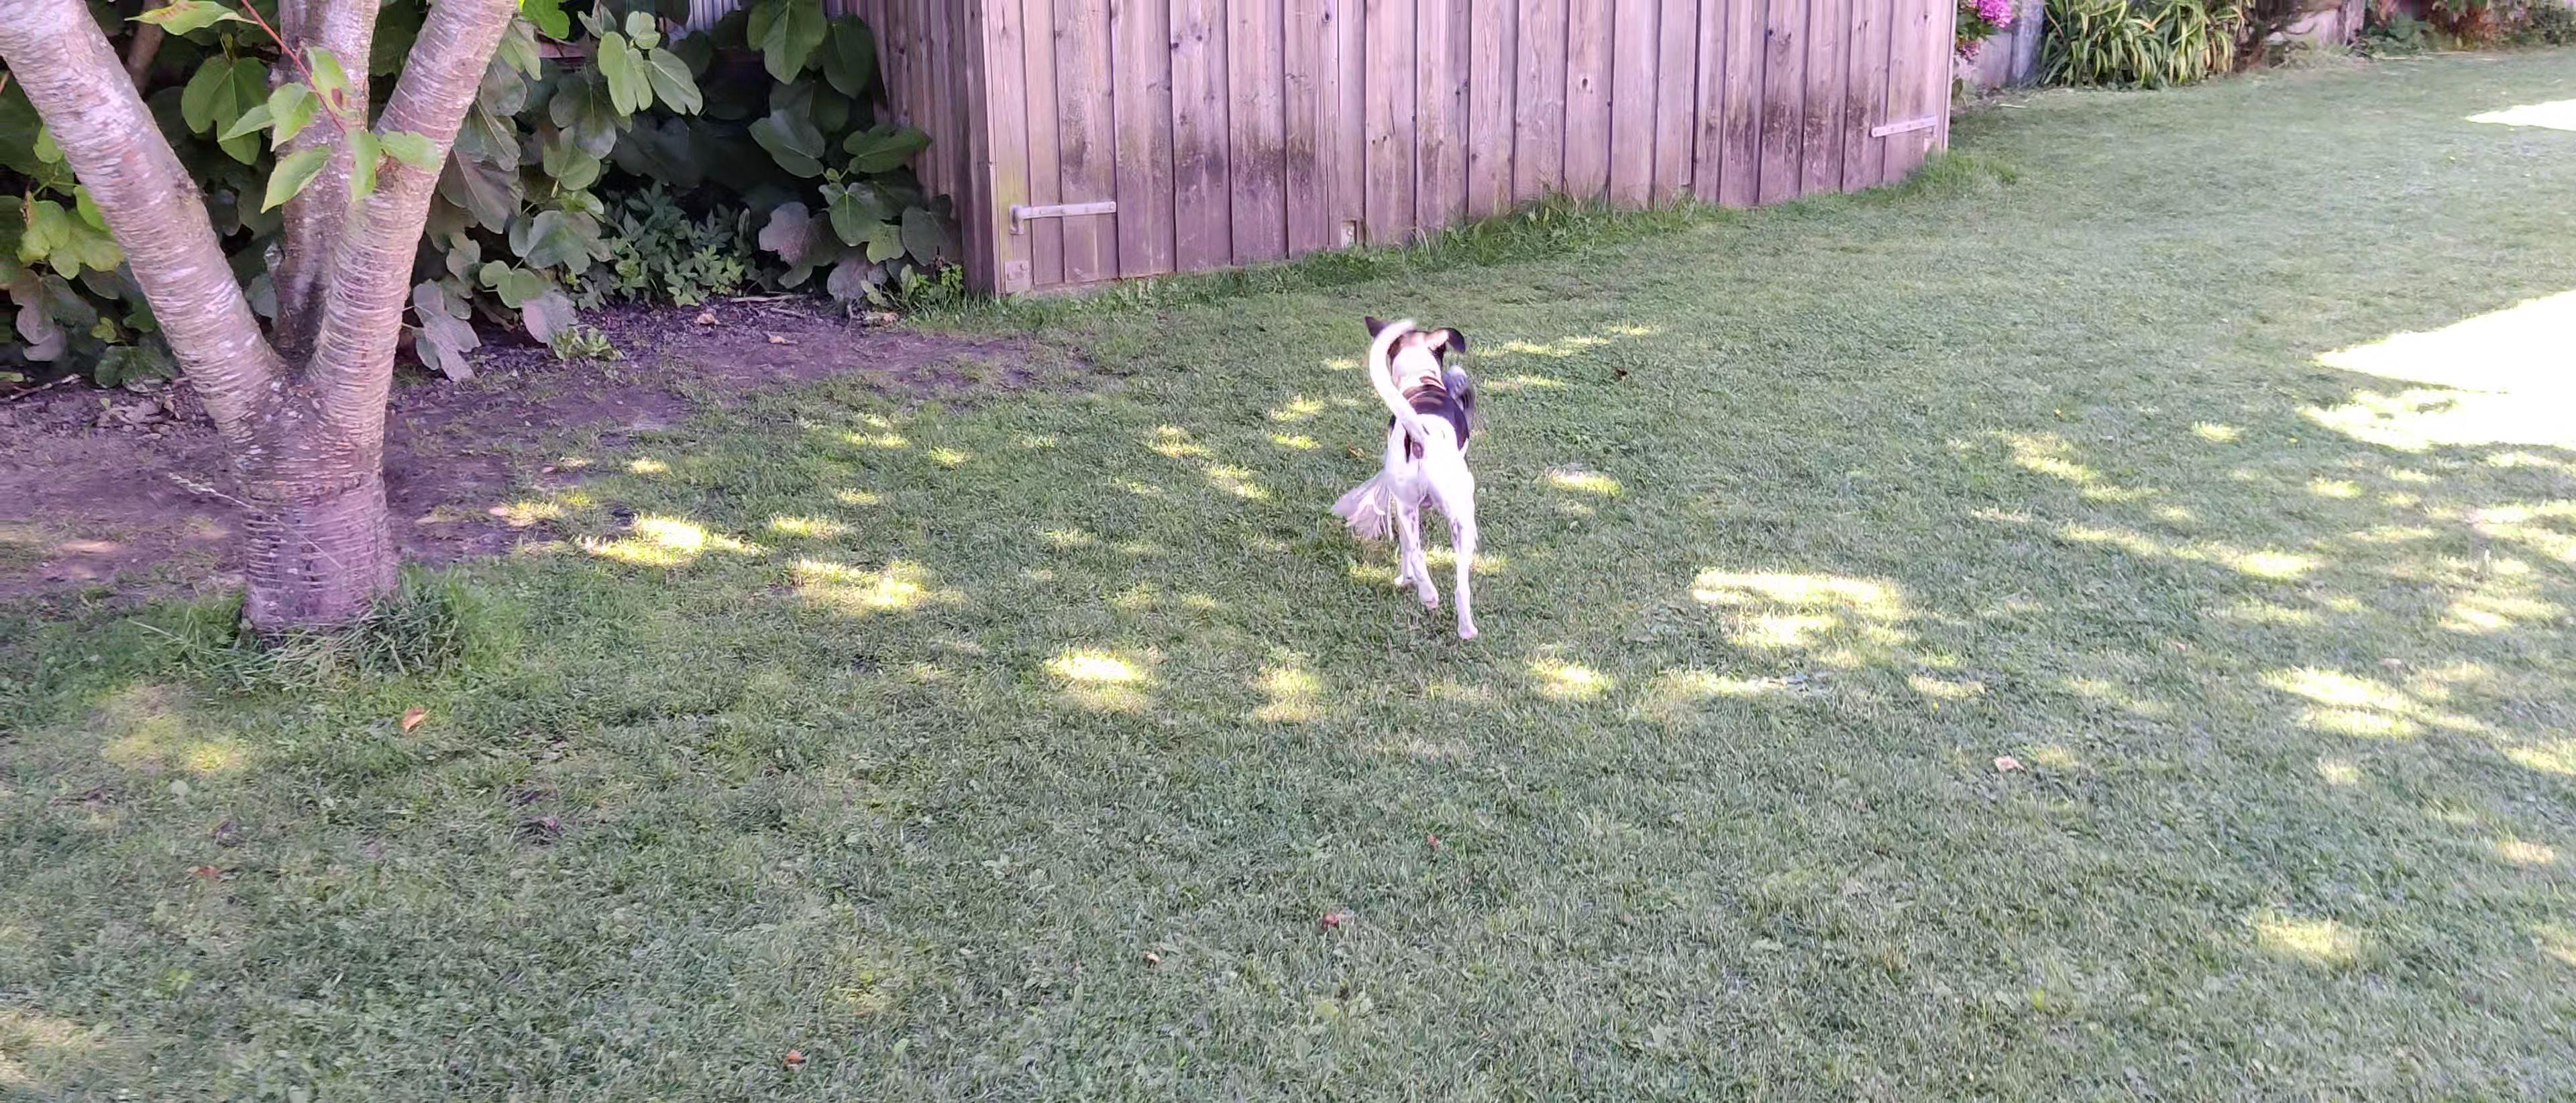Dog: (1354, 302, 1485, 643)
